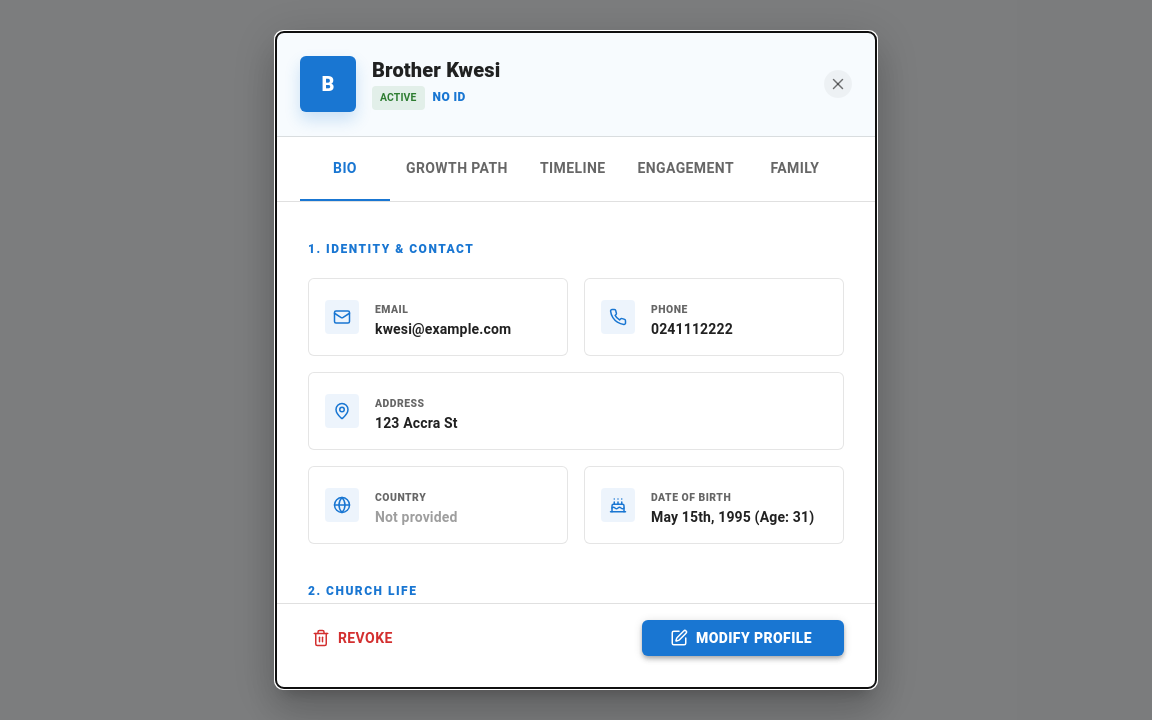
Test case: MemberDetailsDialog Multi-Tab Profile View › renders Engagement Tab and displays completed classes and gifts
The width and height of the screenshot is (1152, 720).
Click the tab "Engagement" at (686, 169), box [622, 137, 750, 201]
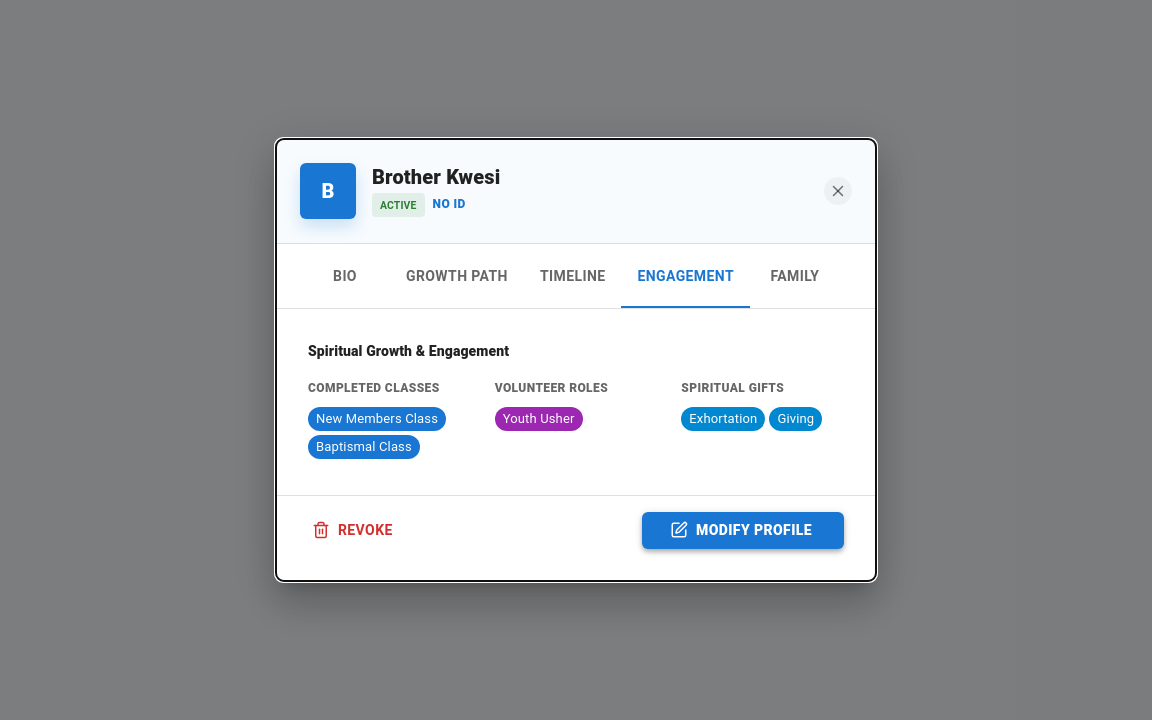
Expected: the text "New Members Class" is shown, [308, 409, 446, 429]
Expected: the text "Exhortation" is shown, [689, 411, 757, 426]
Expected: the text "Youth Usher" is shown, [503, 411, 575, 426]
